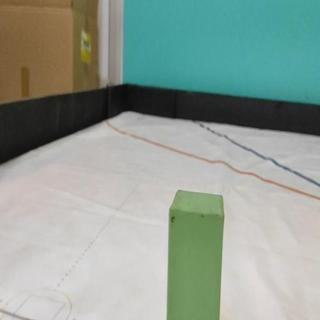greenbox: (165, 187, 225, 320)
